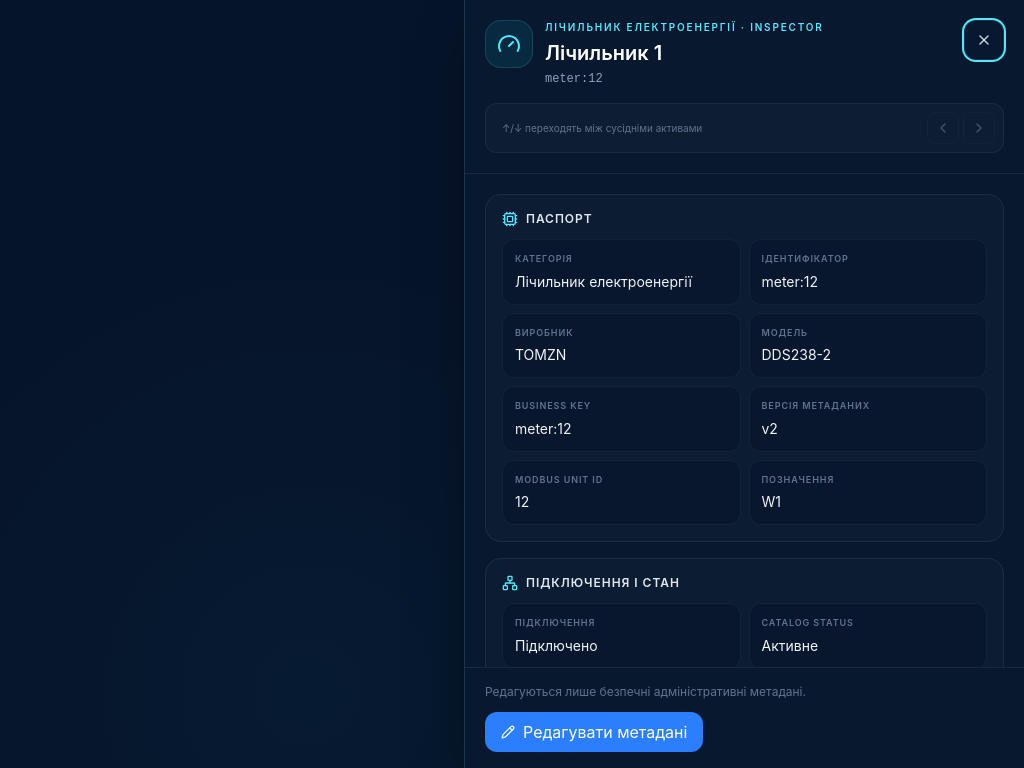
Test case: EquipmentAssetDetails metadata editing › keeps transport identity read-only and requires explicit discard for dirty edits
Click the button "Редагувати метадані": (594,732) x1=485 y1=712 x2=703 y2=752
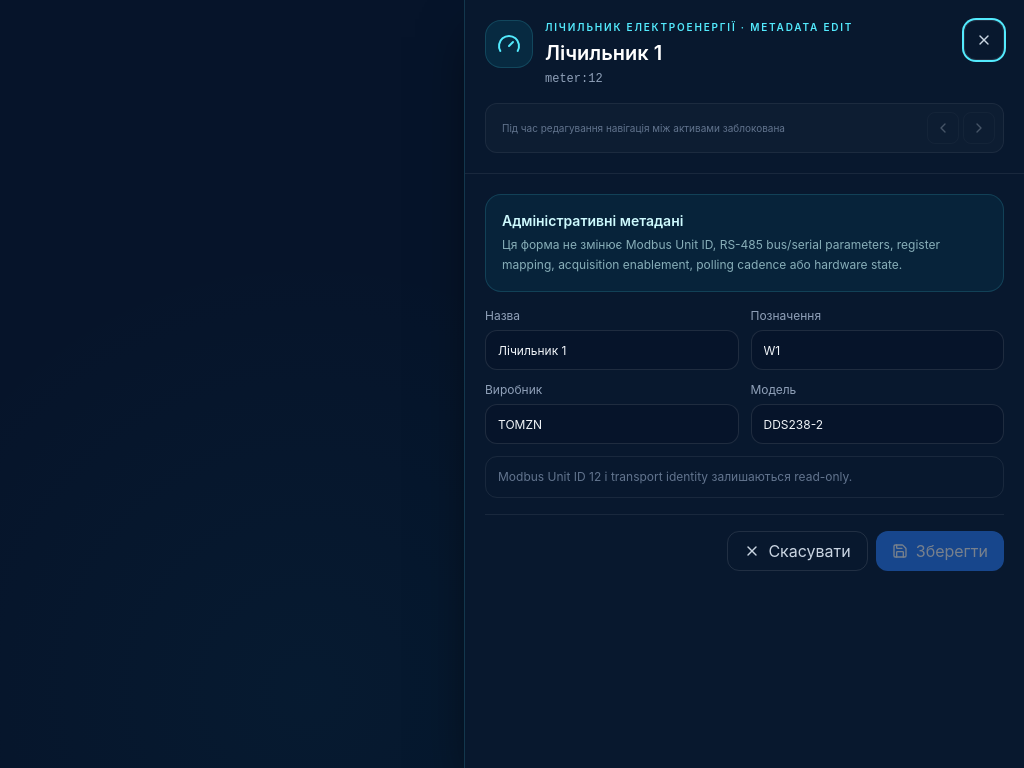
Expected: the text "Modbus Unit ID 12 і transport identity залишаються read-only" is shown, x1=498 y1=469 x2=852 y2=484
Replace the text in the field labelled "Назва" with "Новий лічильник": (612,350) x1=485 y1=330 x2=738 y2=370
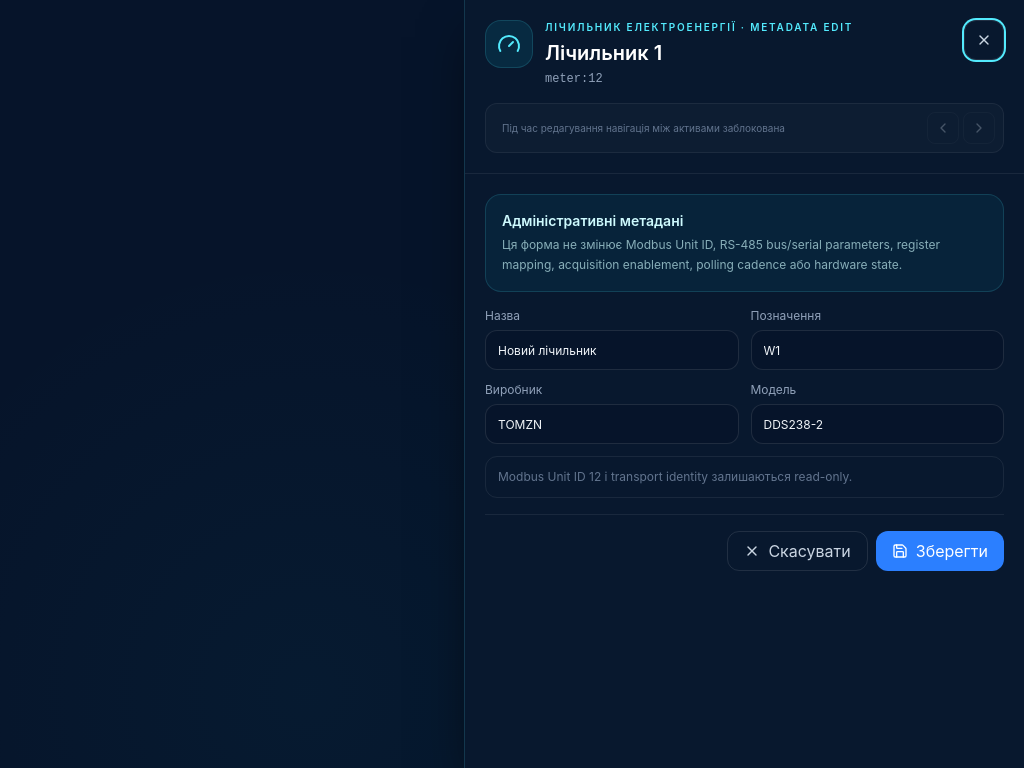
Click the button named "Закрити паспорт обладнання": (984,40) x1=964 y1=20 x2=1004 y2=60
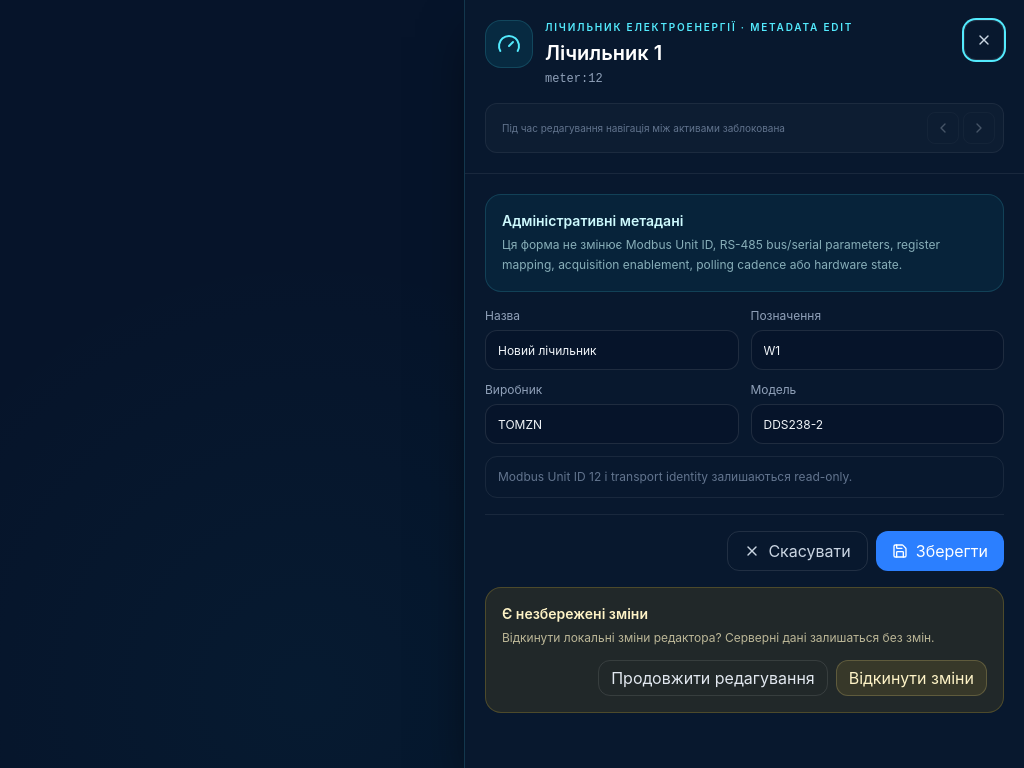
Expected: the heading "Є незбережені зміни" is shown, x1=502 y1=605 x2=648 y2=622
Click the button "Продовжити редагування": (713,678) x1=598 y1=660 x2=828 y2=696
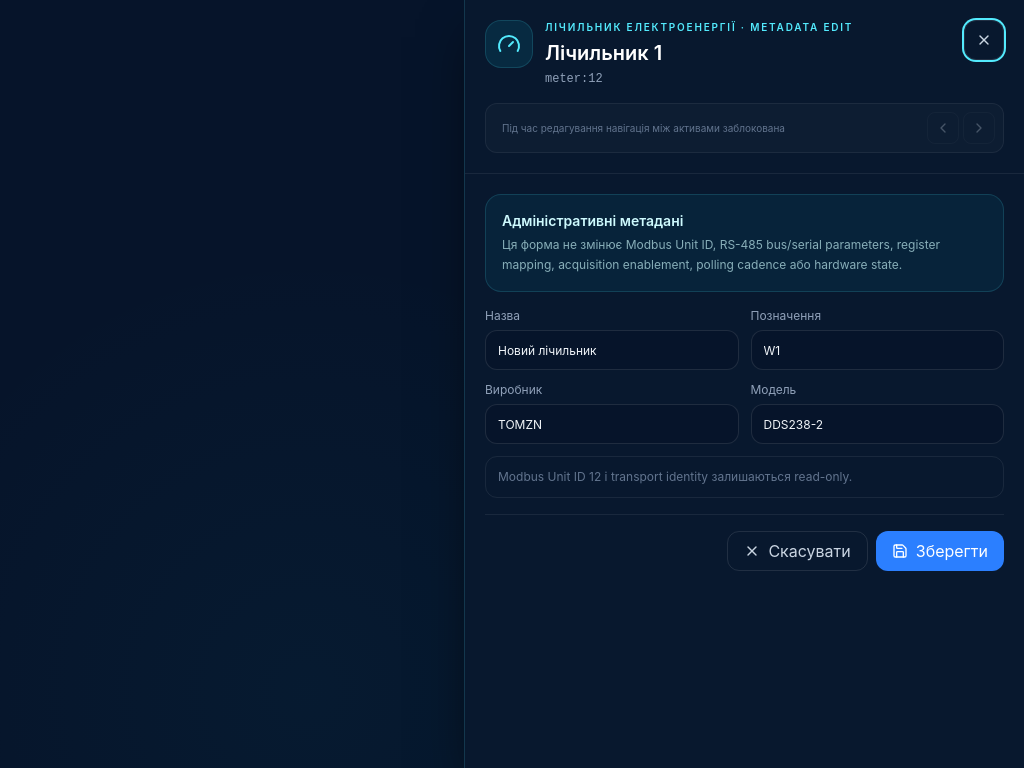
Click the button "Скасувати": (798,551) x1=727 y1=531 x2=868 y2=571
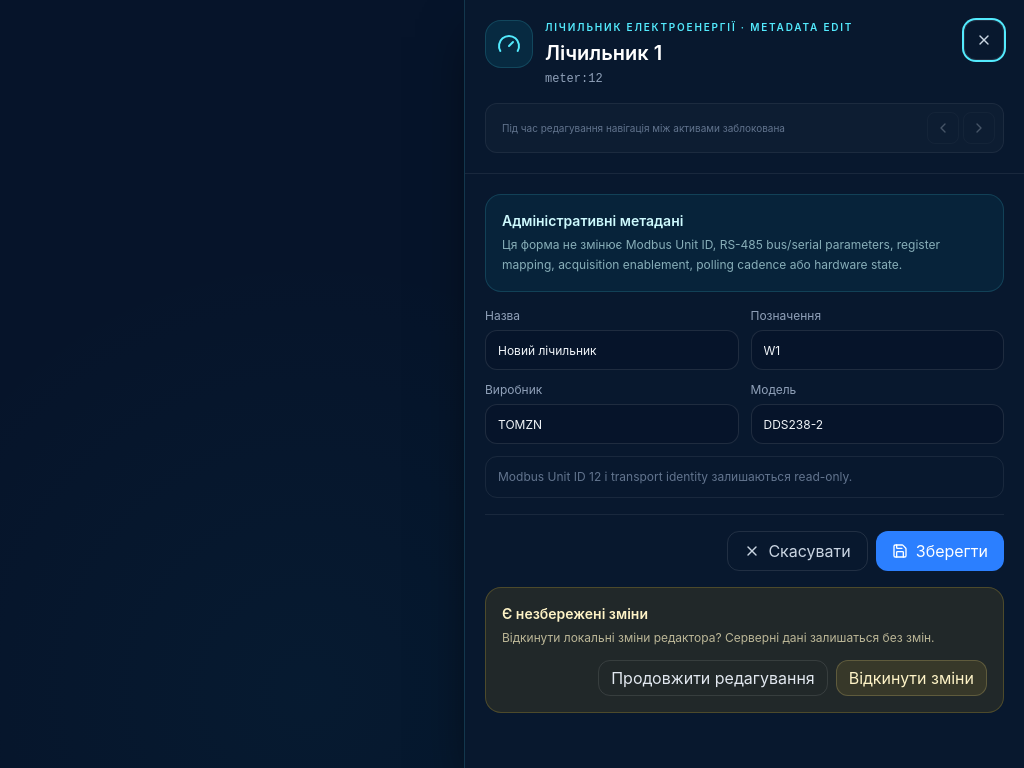
Click the button "Відкинути зміни": (911,678) x1=836 y1=660 x2=987 y2=696
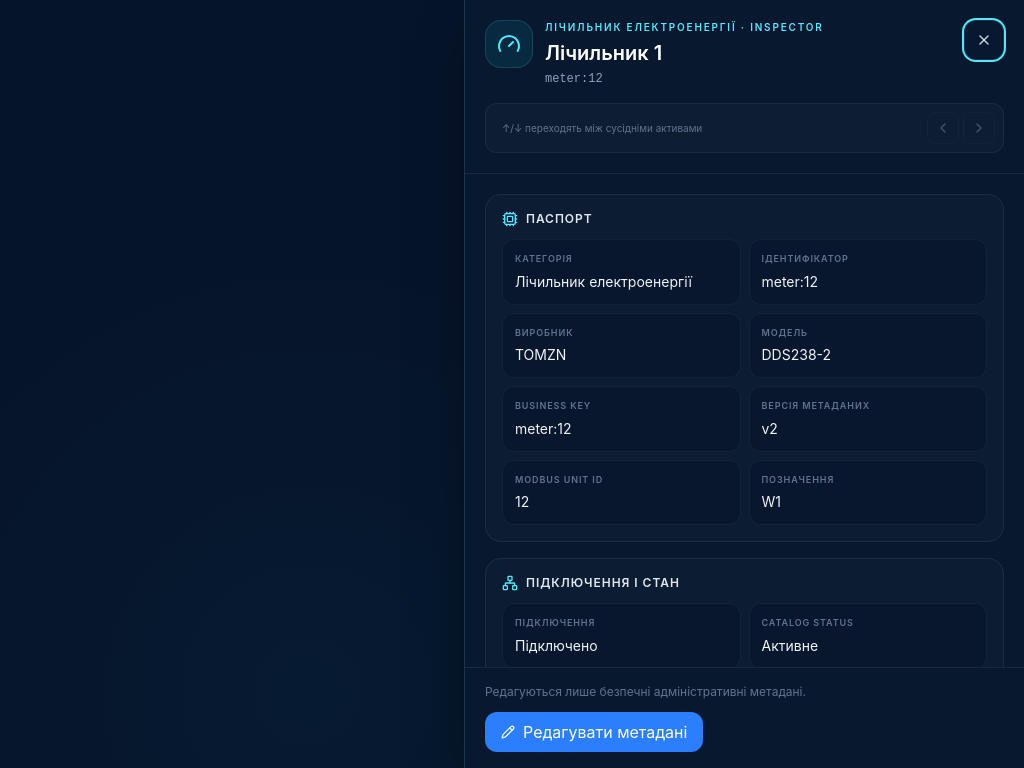
Expected: the label labelled "Назва" is gone
